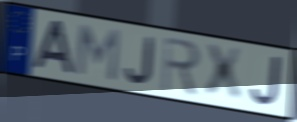A: (31, 18, 76, 77)
J: (248, 55, 283, 108), (123, 34, 156, 86)
M: (73, 22, 122, 84)
R: (159, 35, 202, 98)
X: (204, 43, 244, 104)
